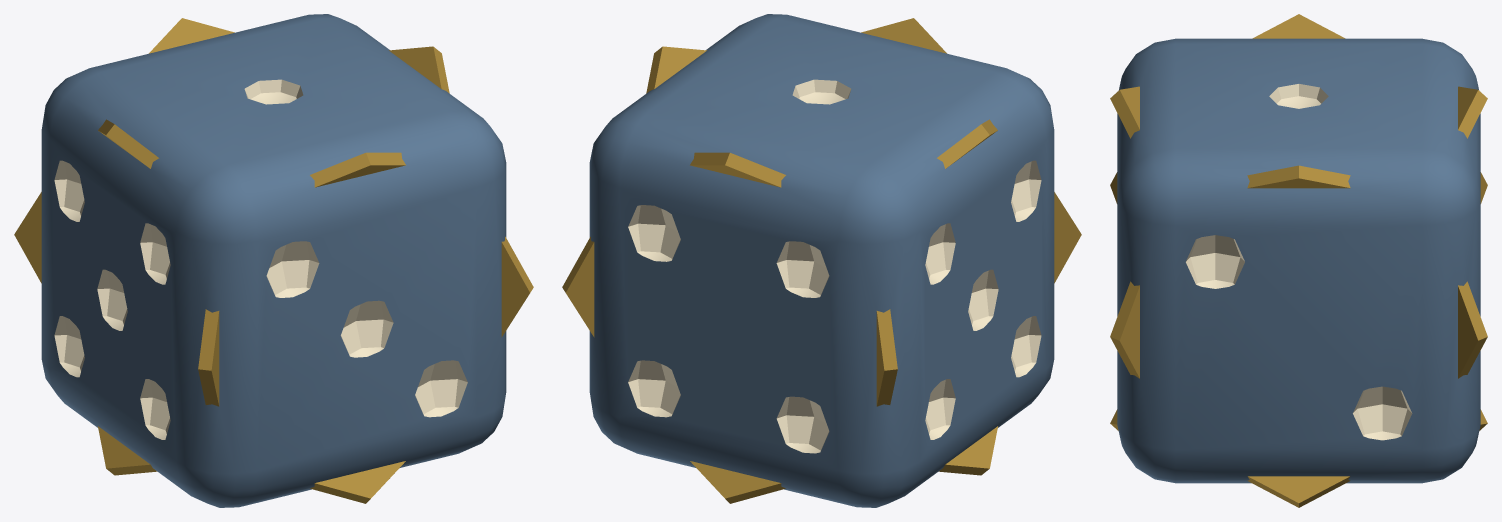
The model's file is wanderer_d6.glb.
3 views of the same model, side by side, from view 1: azimuth 30°, elevation 25°; view 2: azimuth 150°, elevation 25°; view 3: azimuth 270°, elevation 25° (orthographic). The views are drawn at different scales.
Parts seen in each view (by area): view 1: WandererD6; view 2: WandererD6; view 3: WandererD6.
Part boxes in pixels (bbox=[...]): WandererD6: bbox=[14, 14, 533, 507]; WandererD6: bbox=[562, 14, 1081, 507]; WandererD6: bbox=[1110, 14, 1487, 507].
Bounding box in the file's own units: 0.0832 × 0.0832 × 0.0832.
